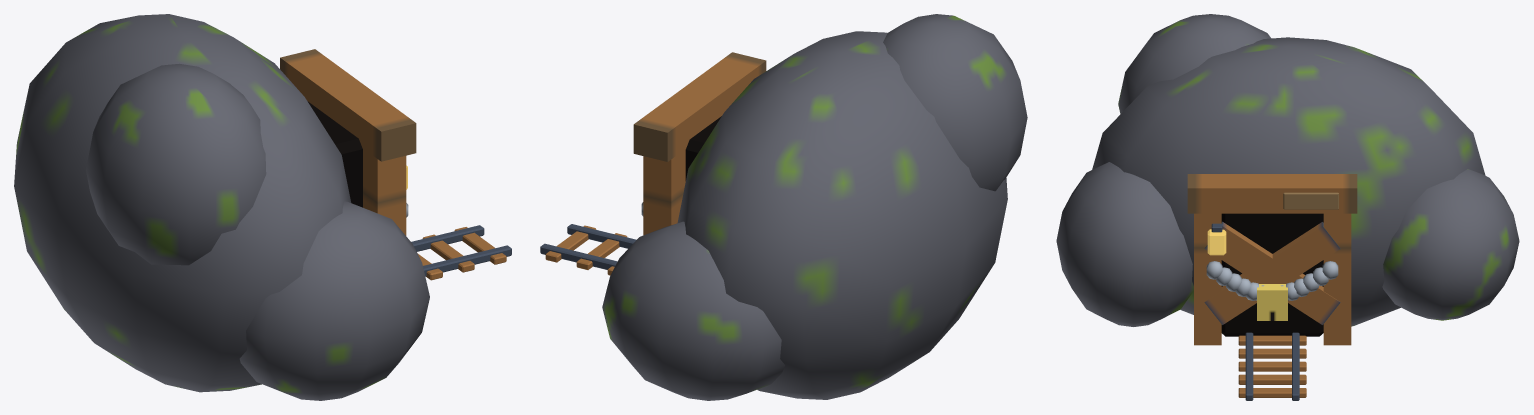
File: prop_minebarred_d5c6.glb
3 views of the same model, side by side, from view 1: azimuth 30°, elevation 25°; view 2: azimuth 150°, elevation 25°; view 3: azimuth 270°, elevation 25° (orthographic). The views are drawn at different scales.
Visible parts, largest first — view 1: prop_minebarred_d5c6; view 2: prop_minebarred_d5c6; view 3: prop_minebarred_d5c6.
Boxes of the visible parts, left/top/right/bottom form: prop_minebarred_d5c6: left=14, top=14, right=511, bottom=400; prop_minebarred_d5c6: left=540, top=14, right=1027, bottom=400; prop_minebarred_d5c6: left=1056, top=14, right=1519, bottom=400.
Size of the model in its own units: 2.39 by 1.81 by 2.65.
Materials: 3 (3 with a texture image).
